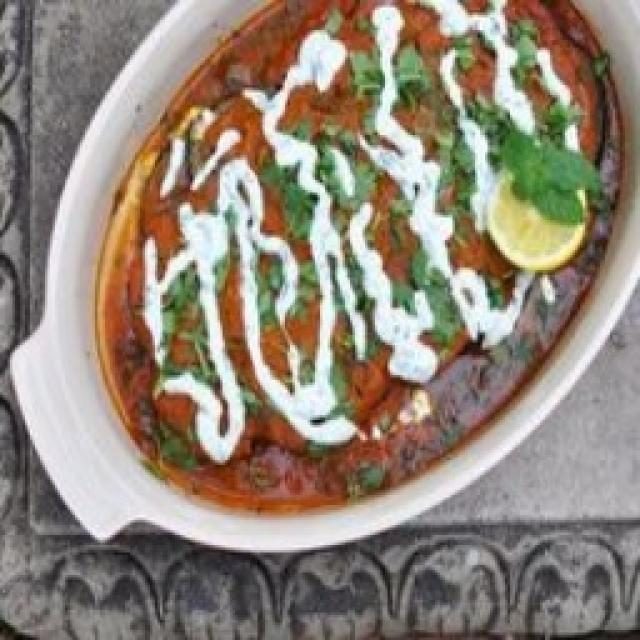Chakchouka: (12, 0, 640, 549)
